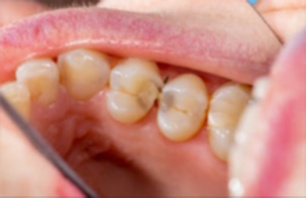Caries: (147, 71, 178, 121)
